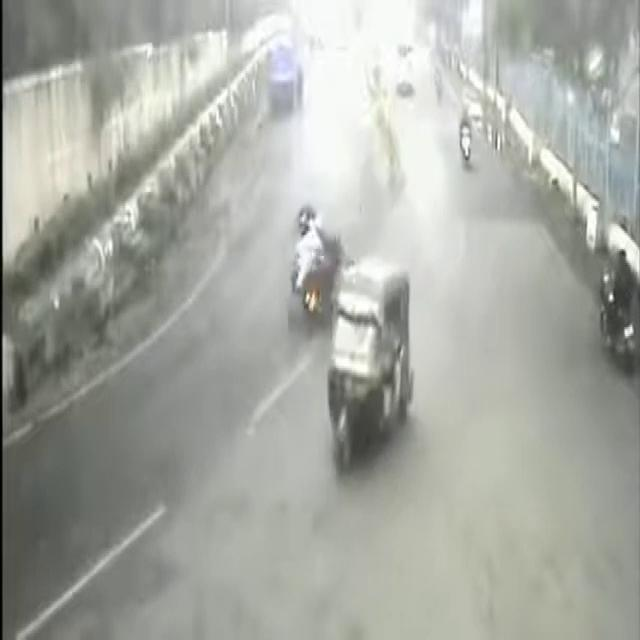accident: (268, 171, 348, 341)
